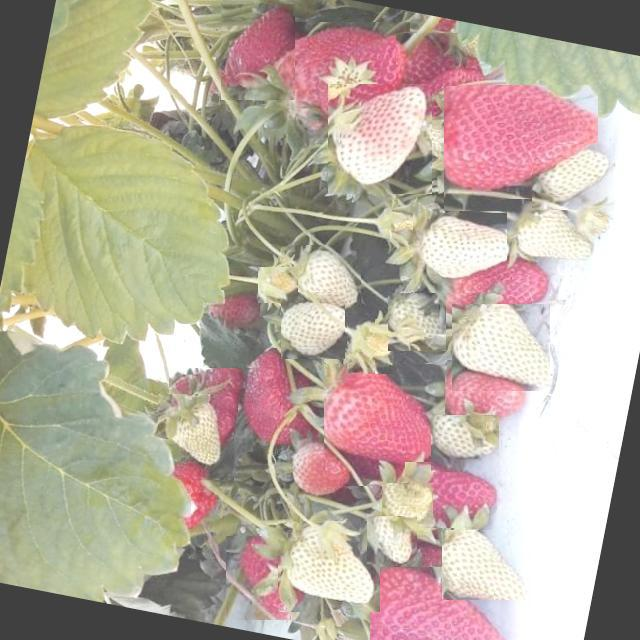ripe: (444, 84, 598, 210), (310, 364, 450, 486), (267, 22, 410, 138), (370, 567, 539, 640), (441, 246, 559, 330), (231, 348, 324, 454), (222, 4, 296, 100), (170, 368, 253, 452), (446, 360, 532, 440), (406, 462, 508, 528), (227, 536, 300, 620), (160, 456, 220, 532), (396, 33, 462, 86), (207, 290, 260, 334)
unripe: (328, 84, 432, 194), (278, 521, 380, 612), (452, 304, 550, 391), (413, 212, 512, 292), (442, 530, 540, 600), (507, 199, 594, 275), (158, 394, 234, 480), (532, 144, 615, 210), (296, 245, 362, 313), (282, 292, 346, 359), (432, 415, 499, 472), (388, 293, 446, 351), (347, 319, 401, 374), (367, 516, 417, 564), (382, 483, 433, 524), (258, 267, 298, 303)
